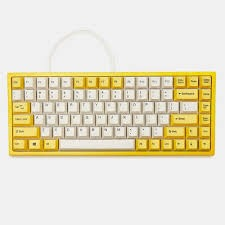keyboard: (6, 72, 216, 155)
